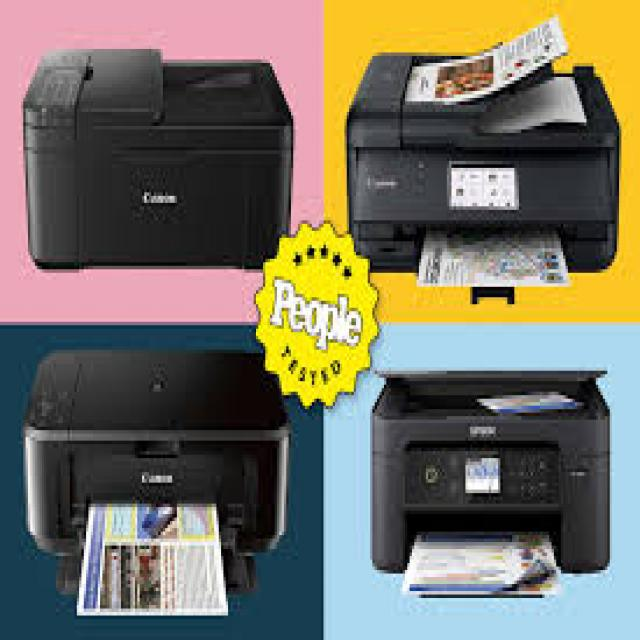printer: (342, 21, 638, 338), (24, 322, 308, 602), (17, 32, 308, 298), (369, 365, 609, 614), (21, 67, 308, 268)
